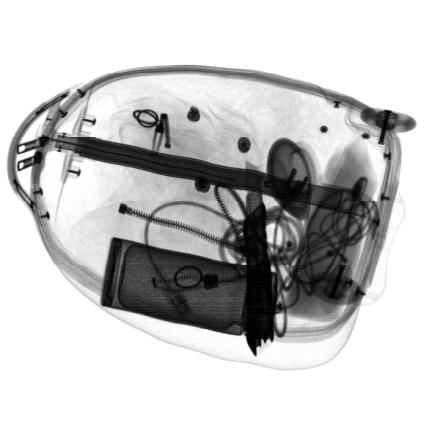Knife: (241, 159, 275, 356)
